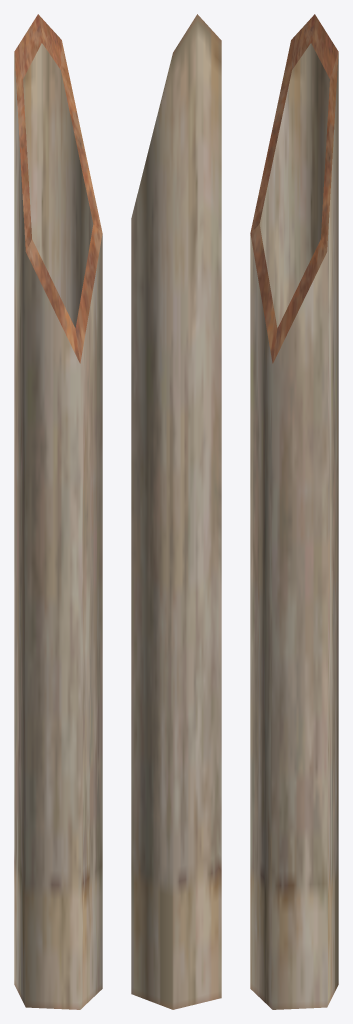
File: thm_tato_debris_s01_l1.fbx
The picture shows the model from 3 angles, left to right: view 1: azimuth 30°, elevation 25°; view 2: azimuth 210°, elevation 25°; view 3: azimuth 330°, elevation 25°; orthographic projection. The views are drawn at different scales.
Parts seen in each view (by area): view 1: mesh_node; view 2: mesh_node; view 3: mesh_node.
Boxes of the visible parts, x1,y1,x2,y2 form: mesh_node: (14, 14, 102, 1009); mesh_node: (131, 14, 221, 1009); mesh_node: (250, 14, 338, 1009).
Size of the model in its own units: 0.383 by 4.6 by 0.3643.
